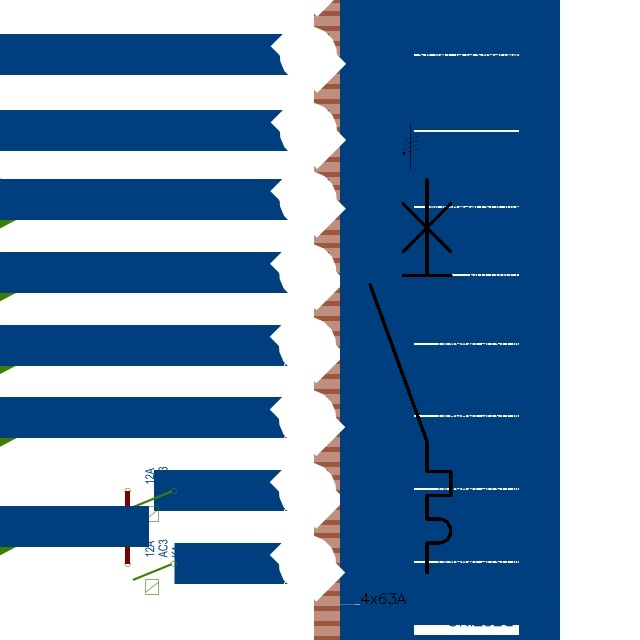interruptor_termomagnetico: (360, 169, 461, 583)
